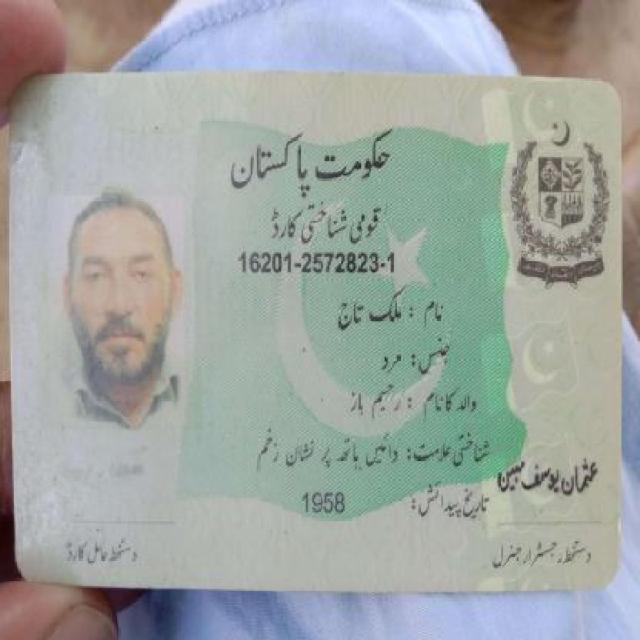Front: (8, 54, 626, 600)
